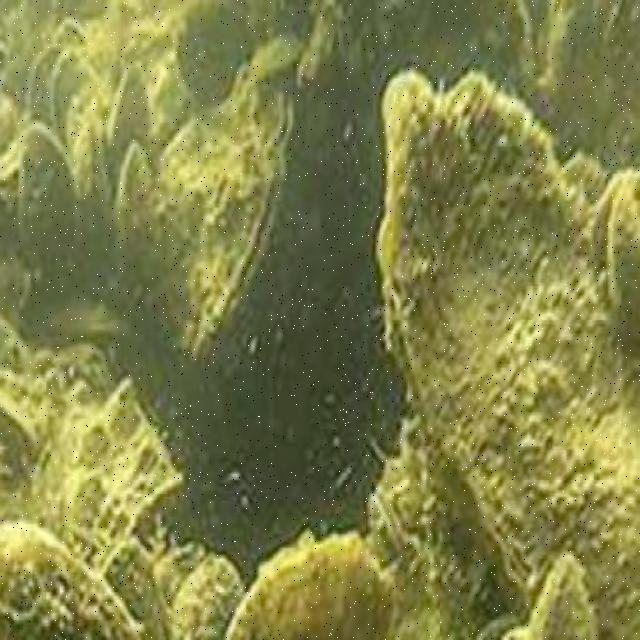Oyster-Closed: (383, 82, 638, 638), (149, 73, 297, 374), (224, 543, 407, 638), (0, 524, 131, 638), (20, 126, 79, 270), (179, 0, 253, 102), (118, 146, 157, 296), (110, 70, 156, 193), (51, 52, 102, 154), (80, 119, 116, 260), (19, 48, 65, 130), (56, 20, 91, 48)
Oyster-Open: (590, 165, 638, 348)
